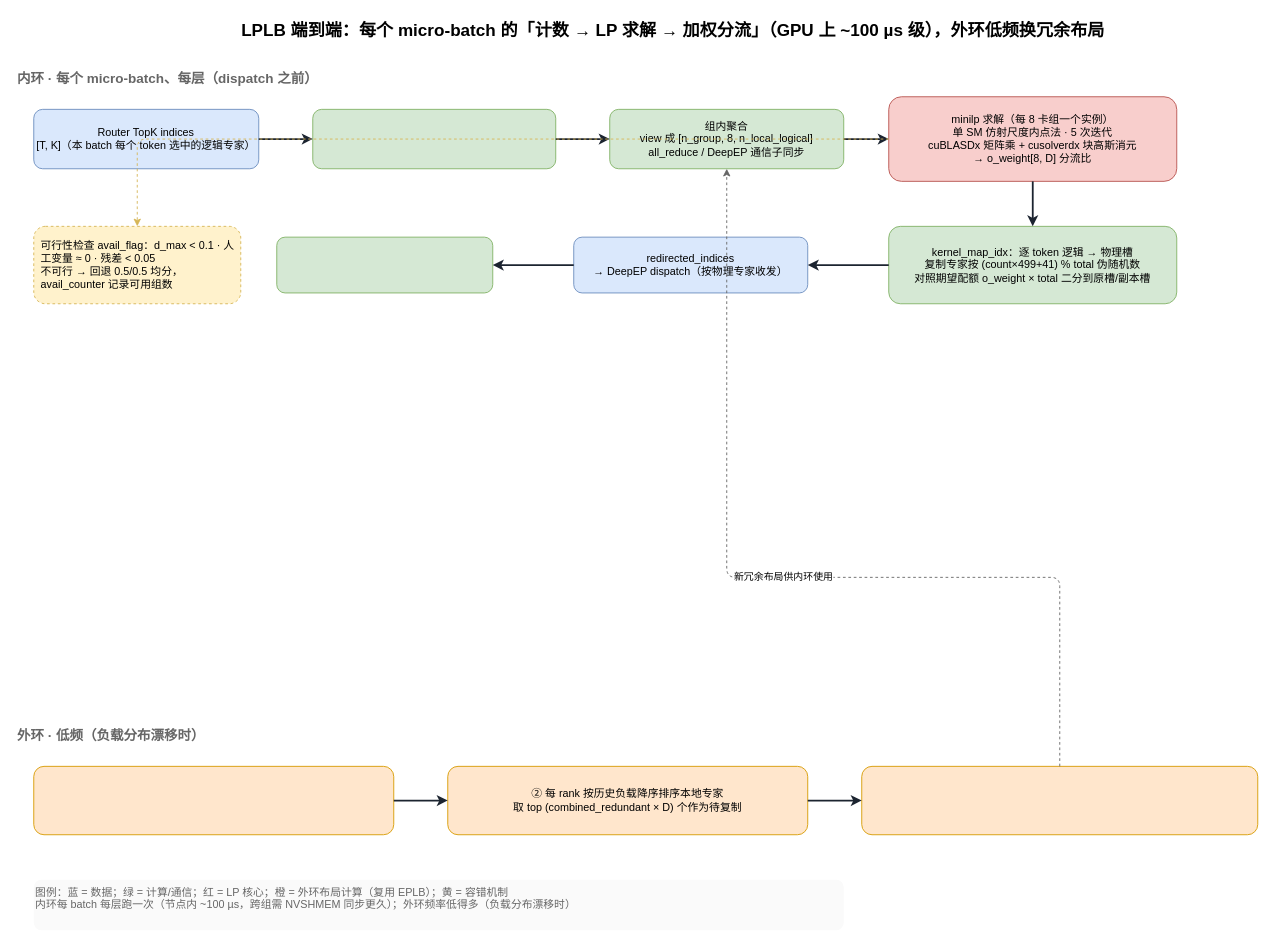
The diagram is 1274 pixels wide and 945 high, and some of its shapes have lost their labels. The shapes that lost their labels are listed below. From the top down, each one's centre as x and y in pixels, then its label:
[434,138]: kernel_count_idx（多 SM） atomicAdd 直方图 + 每 SM 前缀和 → workload[n_logical] · by_sm[]
[384,264]: grouped GEMM 各 rank 按分流比承担负载
[213,800]: ① EPLB rebalance_experts（nored，无冗余版本） 按历史统计把逻辑专家均衡排到各 rank
[1059,800]: ③ 按 r2o 拓扑放副本（每条冗余边恰连 2 个 rank） phy2log / log2phy / logcnt（max=2：每专家 ≤ 原件+1 副本）
